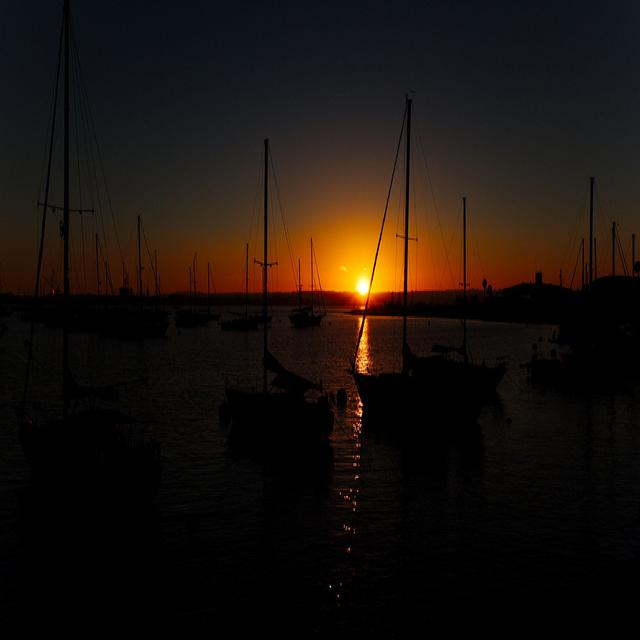Boat: (13, 5, 195, 540), (227, 145, 346, 506), (542, 175, 640, 389), (353, 336, 499, 468), (441, 178, 512, 414), (112, 202, 193, 379), (176, 243, 238, 364), (293, 195, 344, 334), (233, 248, 278, 373)
